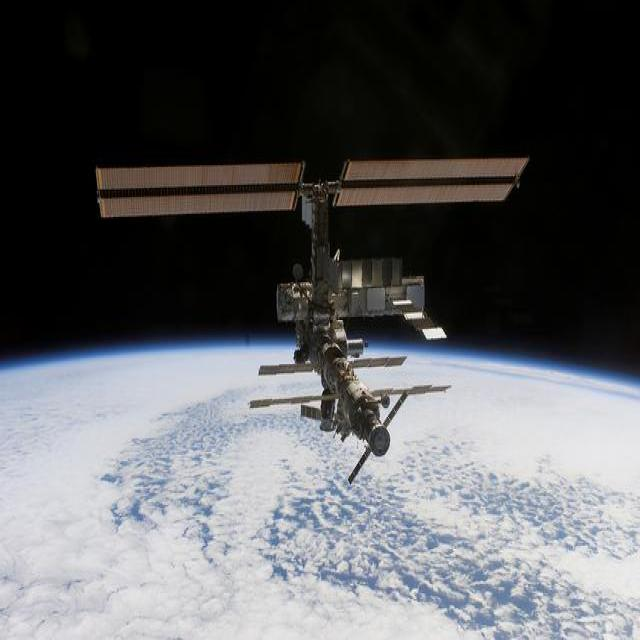satellite: (96, 157, 528, 481)
